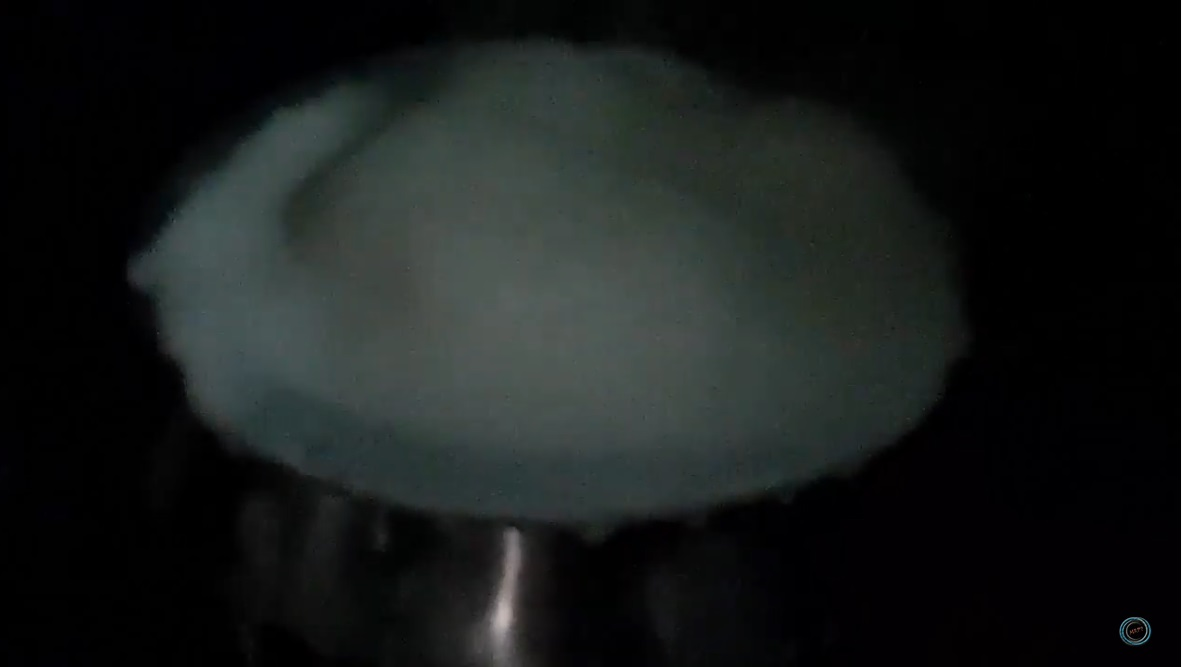Boiled: (132, 25, 983, 549)
